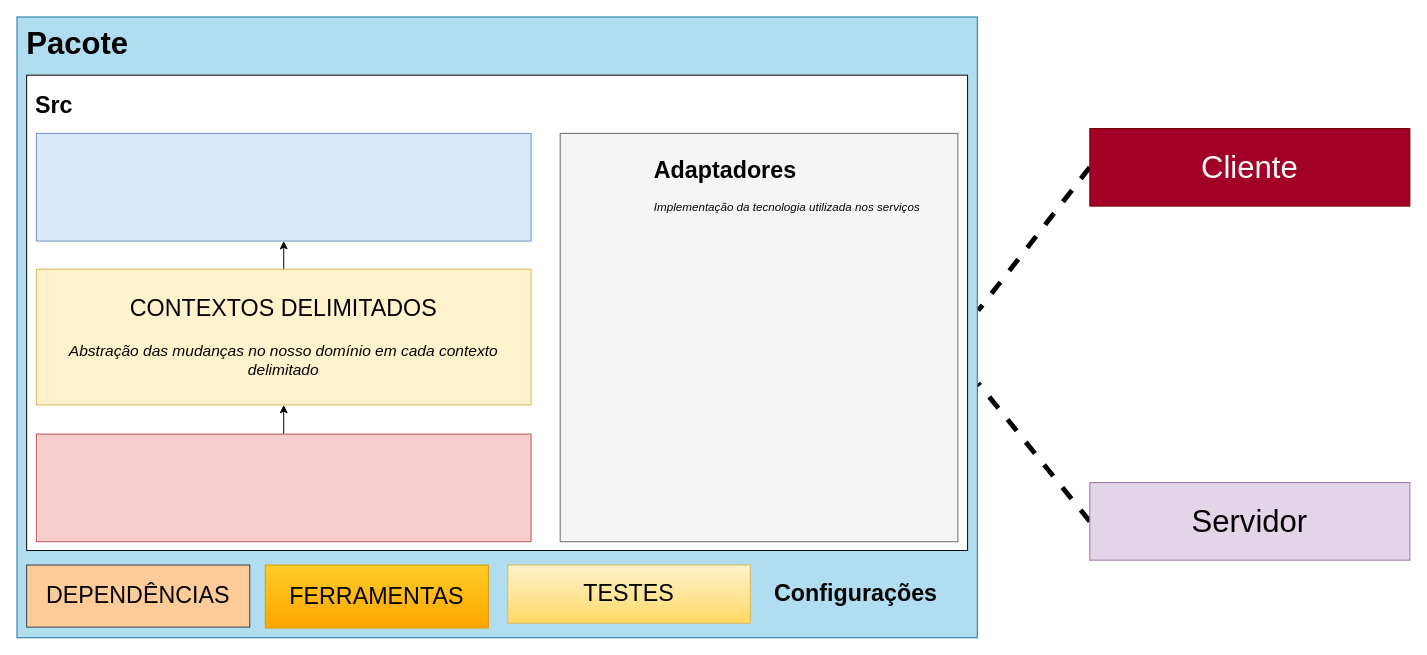
This 1427x655 diagram has some shape labels left out. Each missing label, with the box of its shape:
APLICAÇÃO Aplicação concreta das regras de cada contexto ( Service layer): (35, 132, 531, 241)
DOMÍNIO Representação e implementação dos nossos dados: (35, 433, 531, 542)
I N F R A E S T R U T U R A: (559, 132, 958, 542)
